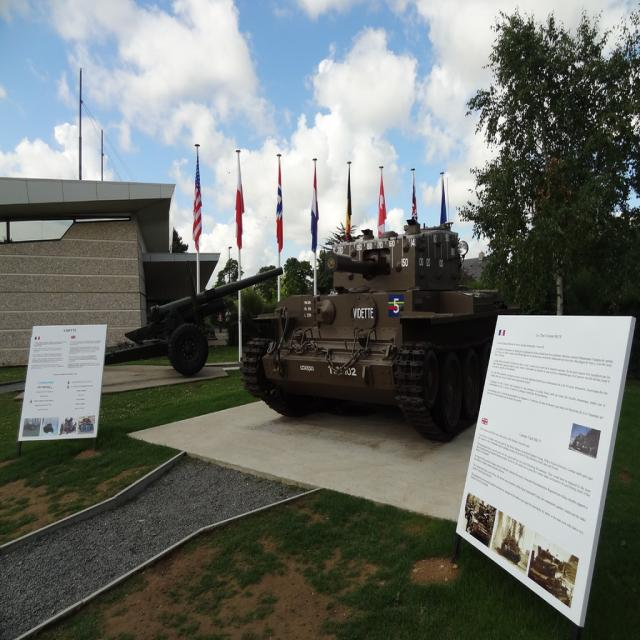tank: (239, 175, 517, 436)
